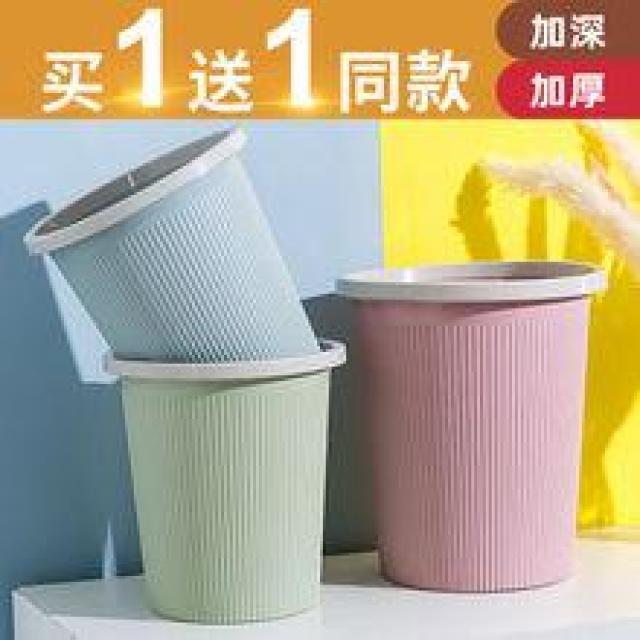dustbin: (332, 256, 610, 599), (92, 335, 353, 627), (24, 125, 323, 364)
